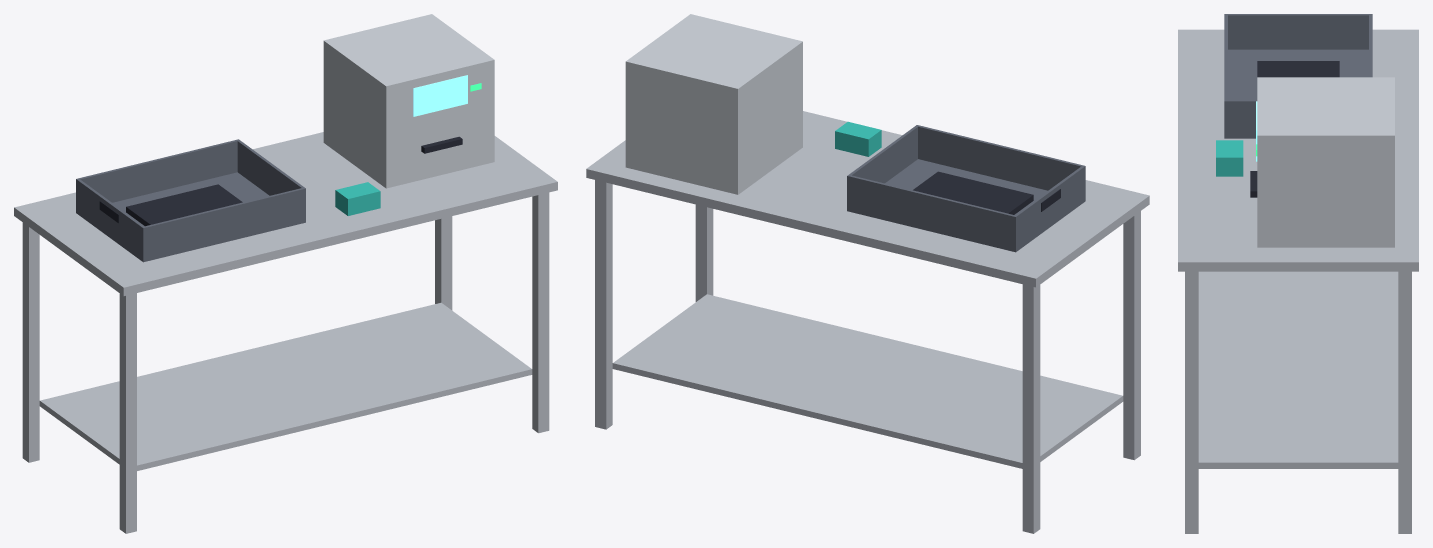
File: air-032.glb
The picture shows the model from 3 angles, left to right: view 1: azimuth 30°, elevation 25°; view 2: azimuth 150°, elevation 25°; view 3: azimuth 270°, elevation 25°; orthographic projection. The views are drawn at different scales.
Parts seen in each view (by area): view 1: shelf, top, body, side_long_2, side_long_1, leg_lf, leg_rf, leg_lb, base, laptop, side_short_1, side_short_2 (+3 smaller); view 2: shelf, body, top, side_long_1, side_long_2, leg_lb, leg_rb, leg_lf, base, laptop, side_short_1, side_short_2 (+2 smaller); view 3: shelf, top, body, side_short_1, leg_rb, leg_rf, base, laptop, side_short_2, swab_box, side_long_2.
Part boxes in pixels (x1,y1,x2,y2): shelf: (39, 302, 532, 470); top: (14, 132, 557, 295); body: (323, 14, 494, 188); side_long_2: (141, 187, 305, 259); side_long_1: (76, 139, 239, 210); leg_lf: (119, 293, 136, 533); leg_rf: (532, 192, 549, 433); leg_lb: (22, 222, 39, 462); base: (76, 172, 305, 262); laptop: (126, 184, 242, 226); side_short_1: (77, 179, 143, 257); side_short_2: (237, 140, 303, 195); shelf: (612, 294, 1123, 468); body: (625, 14, 802, 194); top: (586, 111, 1149, 287); side_long_1: (847, 175, 1017, 249); side_long_2: (916, 125, 1085, 199); leg_lb: (1022, 284, 1040, 533); leg_rb: (595, 180, 612, 429); leg_lf: (1123, 211, 1140, 460); base: (847, 159, 1085, 252); laptop: (913, 171, 1033, 214); side_short_1: (1015, 166, 1083, 247); side_short_2: (849, 126, 917, 183); shelf: (1198, 271, 1398, 468); top: (1178, 29, 1418, 271); body: (1257, 77, 1394, 247); side_short_1: (1228, 14, 1368, 49); leg_rb: (1398, 271, 1411, 533); leg_rf: (1185, 271, 1198, 533); base: (1224, 49, 1368, 138); laptop: (1257, 61, 1339, 77); side_short_2: (1228, 99, 1257, 135); swab_box: (1216, 140, 1243, 176); side_long_2: (1224, 14, 1227, 135).
Size of the model in its own units: 1.6 by 1.24 by 0.7.
